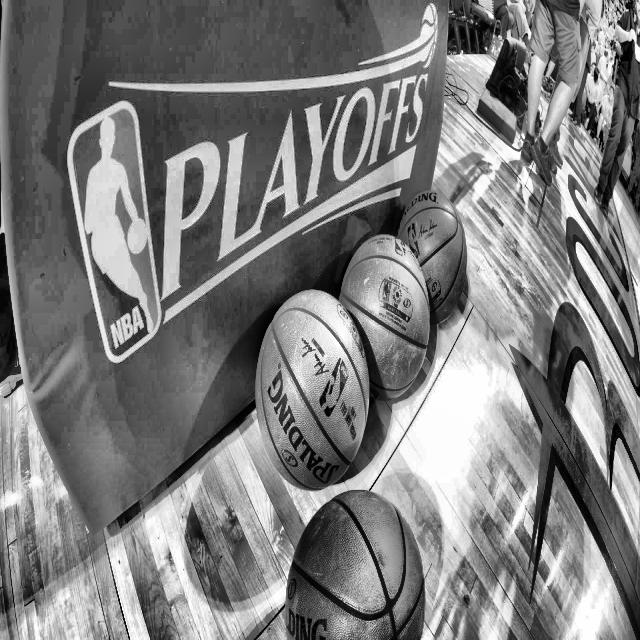Basketball: (255, 190, 467, 490), (285, 490, 426, 640)
